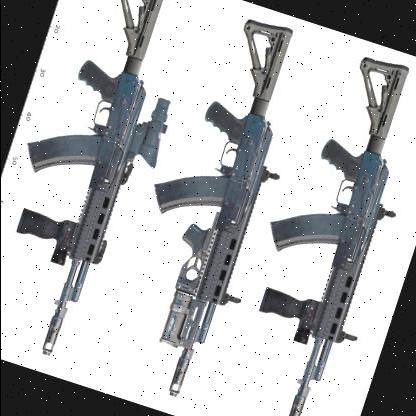rifle: (87, 0, 318, 405), (207, 41, 416, 416), (0, 0, 207, 376)
